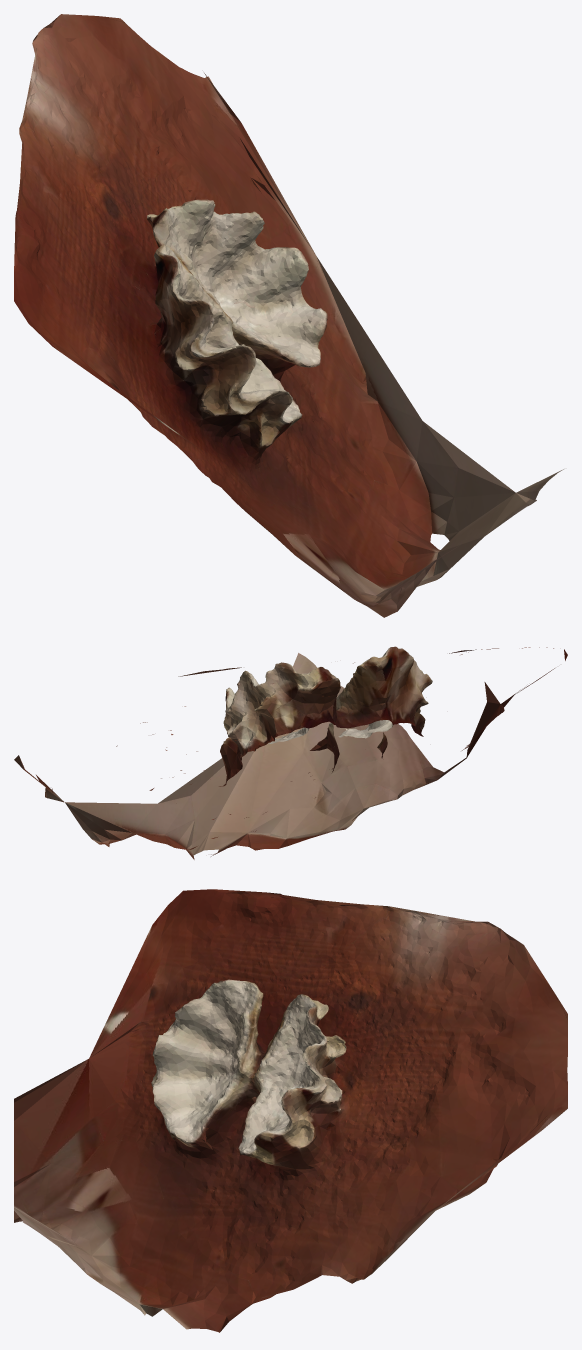
File: 6_6_2025_shell_scan.glb
The picture shows the model from 3 angles, top to bottom: view 1: azimuth 30°, elevation 25°; view 2: azimuth 150°, elevation 25°; view 3: azimuth 270°, elevation 25°; orthographic projection. The views are drawn at different scales.
Size of the model in its own units: 2.05 by 1.75 by 2.68.
1 material, 1 textured.
